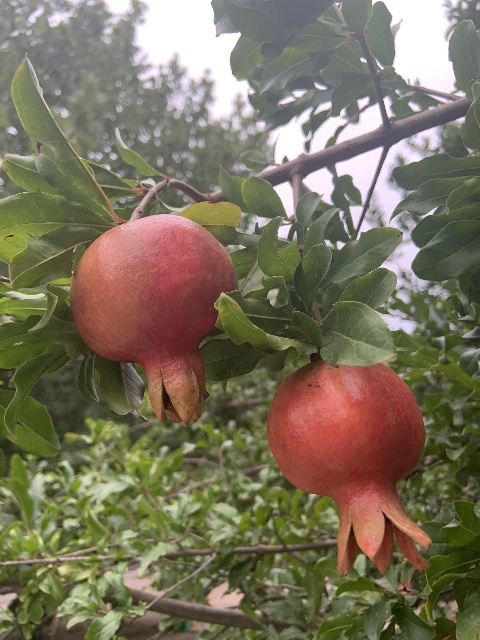ripe: (265, 359, 432, 577), (69, 213, 236, 425)
